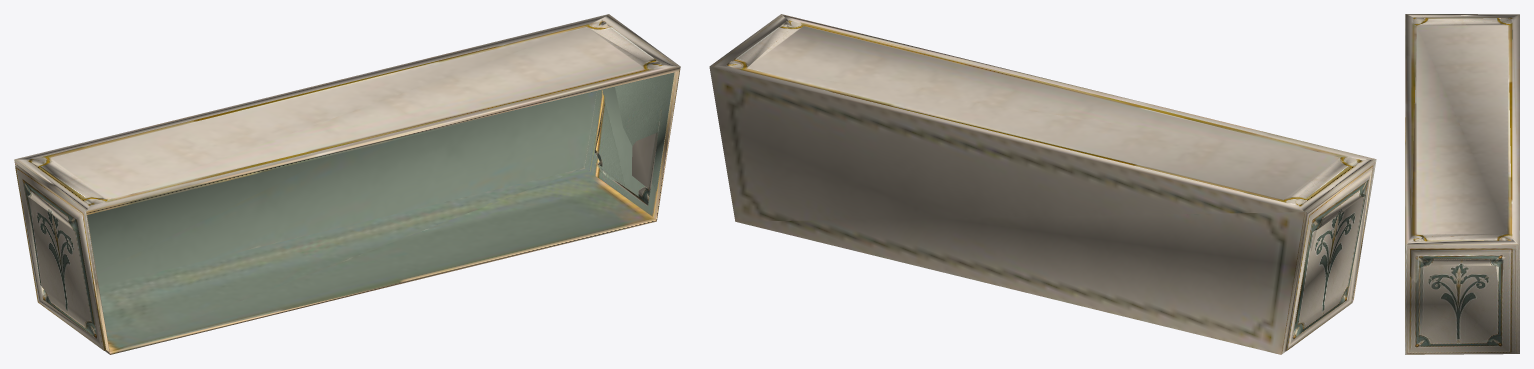
The model's file is item20.glb.
3 views of the same model, side by side, from view 1: azimuth 30°, elevation 25°; view 2: azimuth 150°, elevation 25°; view 3: azimuth 270°, elevation 25° (orthographic). The views are drawn at different scales.
Parts seen in each view (by area): view 1: Mesh_0; view 2: Mesh_0; view 3: Mesh_0.
Boxes of the visible parts, box(x1,y1,x2,y2) form: Mesh_0: box(14, 14, 680, 354); Mesh_0: box(709, 14, 1376, 354); Mesh_0: box(1405, 14, 1519, 354).
Size of the model in its own units: 1 by 0.2399 by 0.2089.
1 material, 1 textured.
